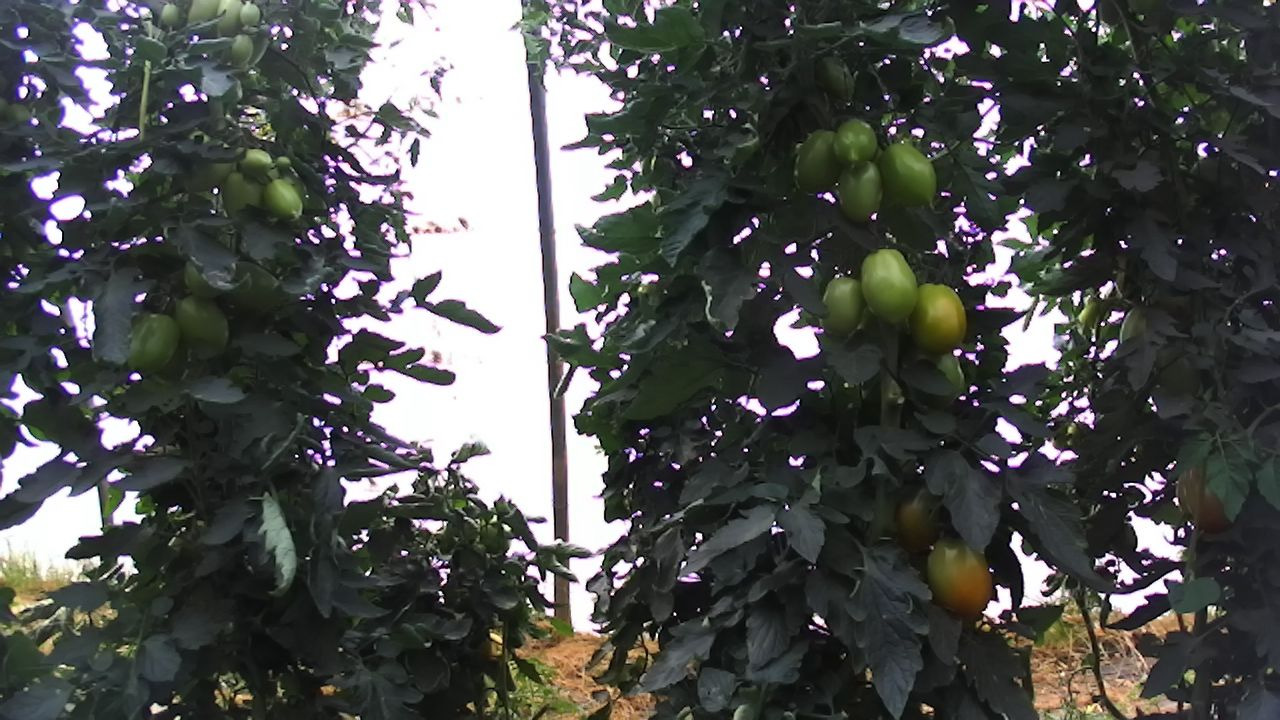tomato: (921, 530, 994, 620), (859, 245, 920, 327), (906, 279, 969, 355), (876, 140, 939, 210), (124, 309, 183, 376), (790, 126, 842, 195), (817, 274, 867, 339), (836, 158, 885, 224), (827, 117, 879, 171), (261, 175, 304, 225), (213, 0, 247, 38), (236, 146, 275, 175), (229, 31, 255, 65), (237, 0, 262, 28)
